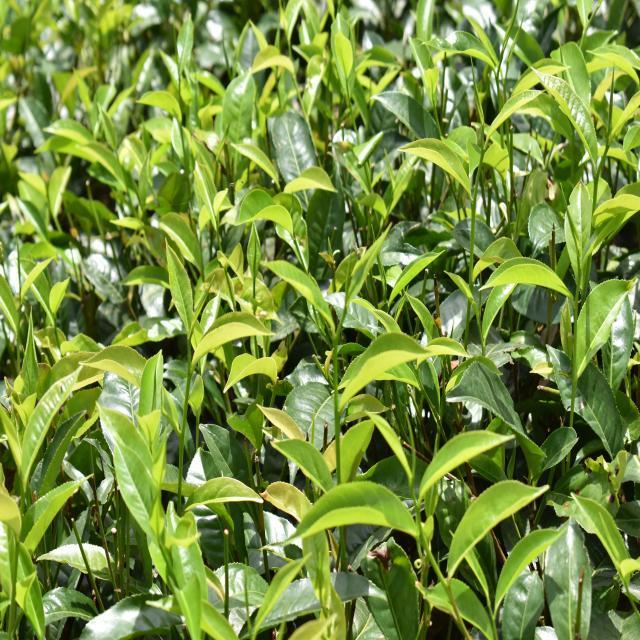Stem: (415, 502, 421, 511), (332, 335, 338, 343), (594, 175, 598, 182), (187, 339, 190, 345), (481, 150, 485, 154)
